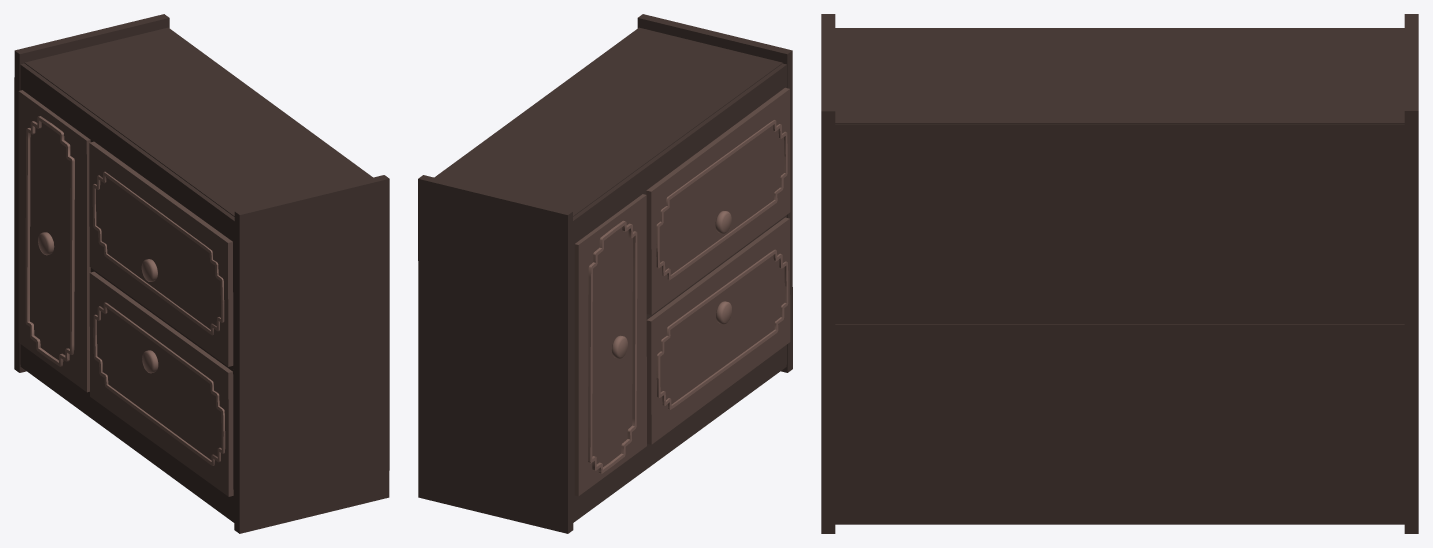
File: Cupb8.obj
3 views of the same model, side by side, from view 1: azimuth 30°, elevation 25°; view 2: azimuth 150°, elevation 25°; view 3: azimuth 270°, elevation 25° (orthographic). The views are drawn at different scales.
Visible parts, largest first — view 1: s0006.2988, s0002.7536, s0009.1542, s0010.0812, s0011.2531, s0005.9337, s0004.9528, s0007.6701, s0016.2860, s0016.0893, s0015.9927, s0003.7457; view 2: s0007.6701, s0002.7536, s0009.1542, s0010.0812, s0011.2531, s0005.9337, s0004.9528, s0006.2988, s0016.2860, s0016.0893, s0015.9927, s0003.7457; view 3: s0000.7738, s0001.2325, s0002.7536, s0006.2988, s0007.6701, s0005.9337.
Boxes of the visible parts, left/top/right/bottom form: s0006.2988: left=234, top=175, right=389, bottom=533; s0002.7536: left=24, top=27, right=372, bottom=216; s0009.1542: left=89, top=141, right=233, bottom=366; s0010.0812: left=89, top=271, right=233, bottom=496; s0011.2531: left=18, top=90, right=90, bottom=392; s0005.9337: left=20, top=63, right=234, bottom=370; s0004.9528: left=20, top=268, right=234, bottom=520; s0007.6701: left=14, top=14, right=169, bottom=372; s0016.2860: left=25, top=116, right=74, bottom=366; s0016.0893: left=93, top=302, right=225, bottom=465; s0015.9927: left=92, top=171, right=224, bottom=334; s0003.7457: left=20, top=365, right=234, bottom=522; s0007.6701: left=418, top=175, right=573, bottom=533; s0002.7536: left=434, top=27, right=782, bottom=216; s0009.1542: left=646, top=87, right=790, bottom=314; s0010.0812: left=646, top=217, right=790, bottom=444; s0011.2531: left=574, top=194, right=646, bottom=496; s0005.9337: left=573, top=63, right=786, bottom=370; s0004.9528: left=573, top=215, right=786, bottom=520; s0006.2988: left=637, top=14, right=792, bottom=372; s0016.2860: left=588, top=220, right=637, bottom=473; s0016.0893: left=656, top=249, right=788, bottom=409; s0015.9927: left=656, top=120, right=787, bottom=280; s0003.7457: left=573, top=365, right=786, bottom=522; s0000.7738: left=835, top=124, right=1404, bottom=324; s0001.2325: left=835, top=324, right=1404, bottom=524; s0002.7536: left=835, top=29, right=1404, bottom=124; s0006.2988: left=821, top=14, right=835, bottom=533; s0007.6701: left=1404, top=14, right=1418, bottom=533; s0005.9337: left=835, top=28, right=1404, bottom=29.
Bounding box in the file's own units: 1.41 × 2.6 × 3.33.
